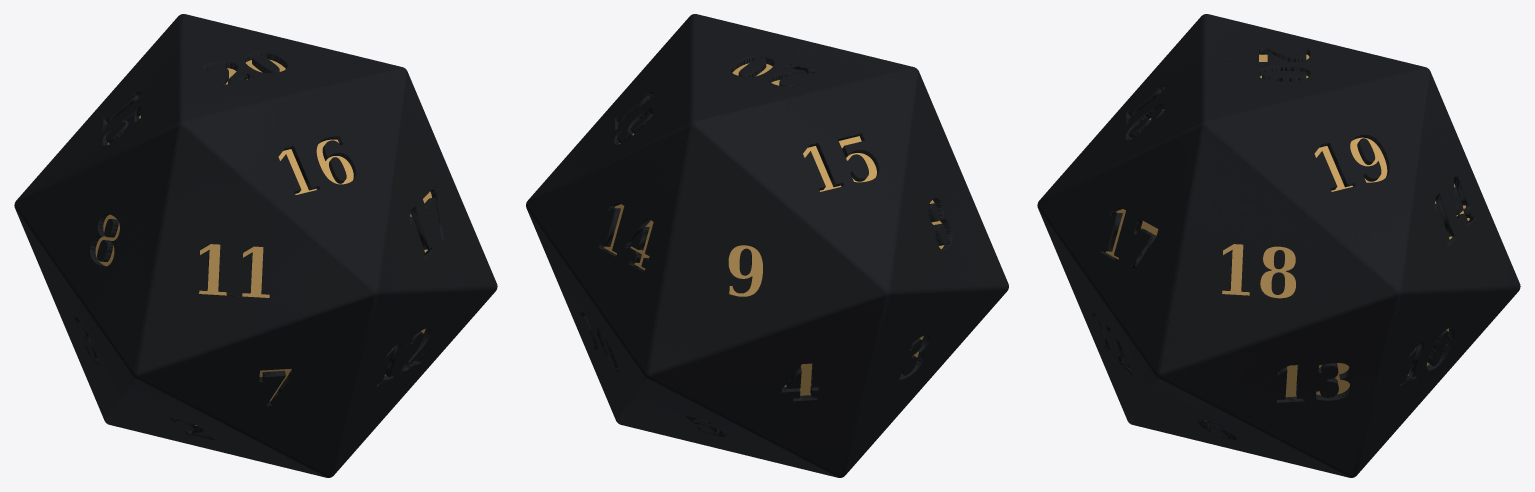
Rendered from d20_obsidian_gold_master_500k.glb.
The picture shows the model from 3 angles, left to right: view 1: azimuth 30°, elevation 25°; view 2: azimuth 150°, elevation 25°; view 3: azimuth 270°, elevation 25°; orthographic projection.
Visible parts, largest first — view 1: D20_Engraved_Obsidian, Gold_11, Gold_16; view 2: D20_Engraved_Obsidian, Gold_09, Gold_15; view 3: D20_Engraved_Obsidian, Gold_18, Gold_19, Gold_13.
Part boxes in pixels (bbox=[...]): D20_Engraved_Obsidian: bbox=[14, 14, 497, 477]; Gold_11: bbox=[199, 244, 269, 297]; Gold_16: bbox=[278, 139, 353, 194]; D20_Engraved_Obsidian: bbox=[526, 14, 1008, 477]; Gold_09: bbox=[728, 245, 762, 296]; Gold_15: bbox=[803, 136, 876, 191]; D20_Engraved_Obsidian: bbox=[1037, 14, 1520, 477]; Gold_18: bbox=[1222, 244, 1295, 298]; Gold_19: bbox=[1314, 137, 1387, 191]; Gold_13: bbox=[1285, 363, 1349, 397].
Size of the model in its own units: 1.7 by 1.59 by 1.95.
3 materials, 2 textured.
